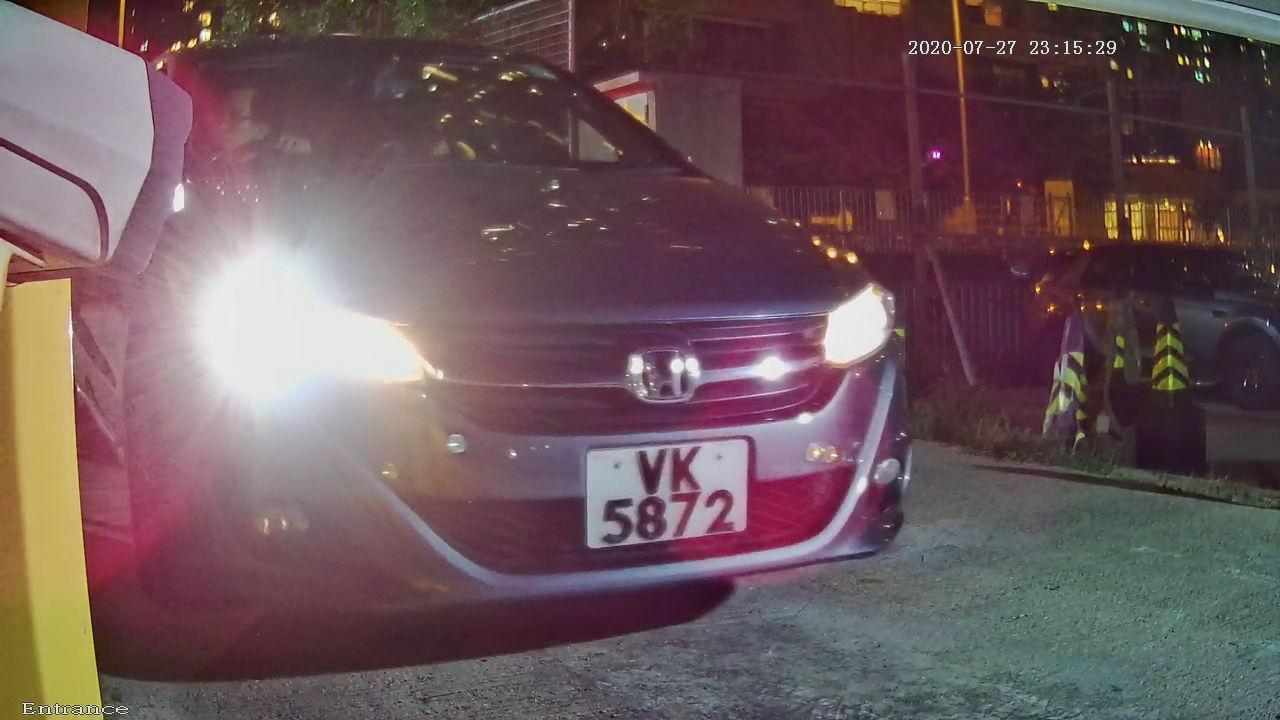privatecar: (81, 4, 983, 692)
